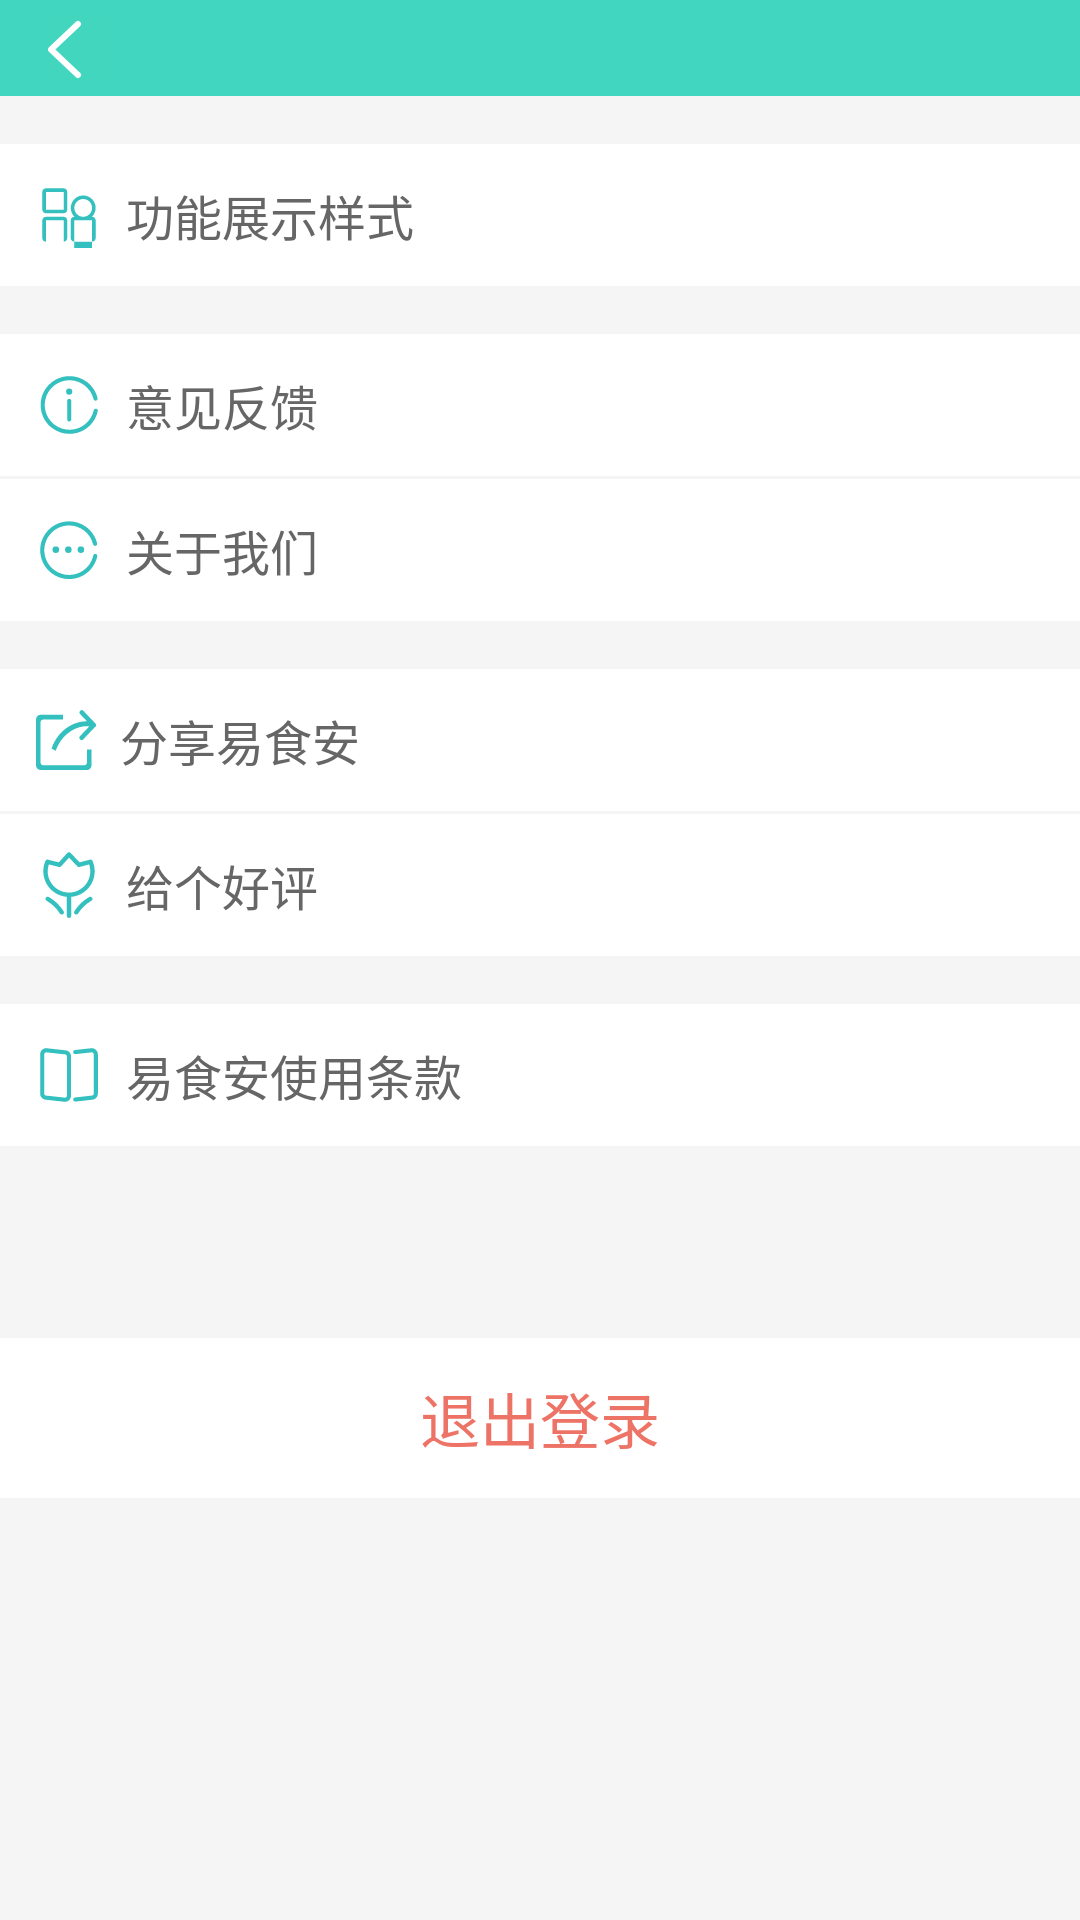

Icon bounding boxes for this 1080px×1920px phone screenshot, format (x1, y1, x2, y2):
navigation back: (48, 20, 81, 79)
